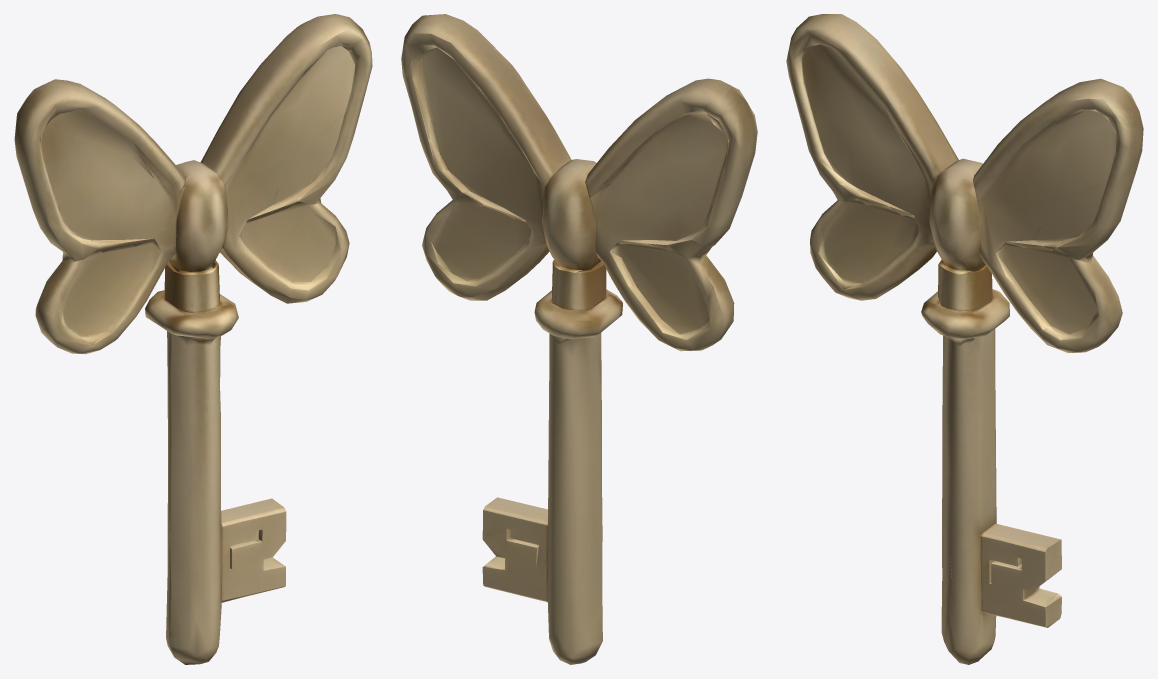
Rendered from m2WindUpKey.glb.
The picture shows the model from 3 angles, left to right: view 1: azimuth 30°, elevation 25°; view 2: azimuth 150°, elevation 25°; view 3: azimuth 330°, elevation 25°; orthographic projection.
Parts seen in each view (by area): view 1: model; view 2: model; view 3: model.
Boxes of the visible parts, box(x1,y1,x2,y2) form: model: box(14, 14, 372, 664); model: box(401, 14, 757, 664); model: box(786, 14, 1143, 664).
Bounding box in the file's own units: 1.14 × 1.9 × 0.2677.
Materials: 1 (1 with a texture image).
